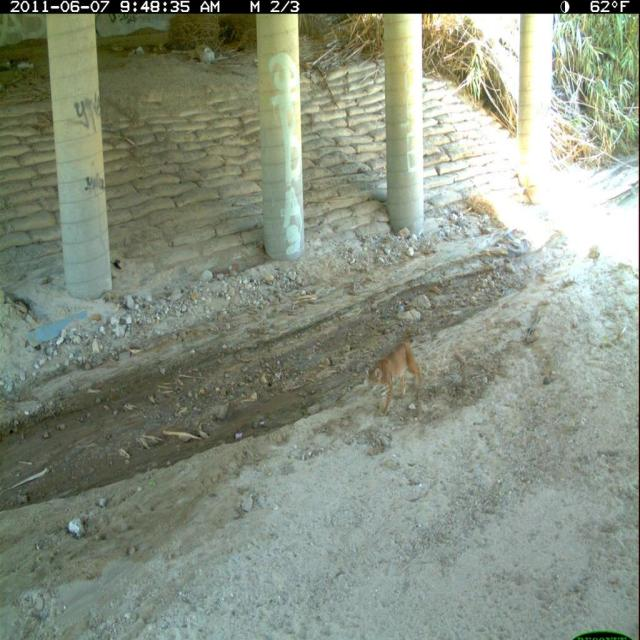bobcat: (362, 337, 430, 423)
